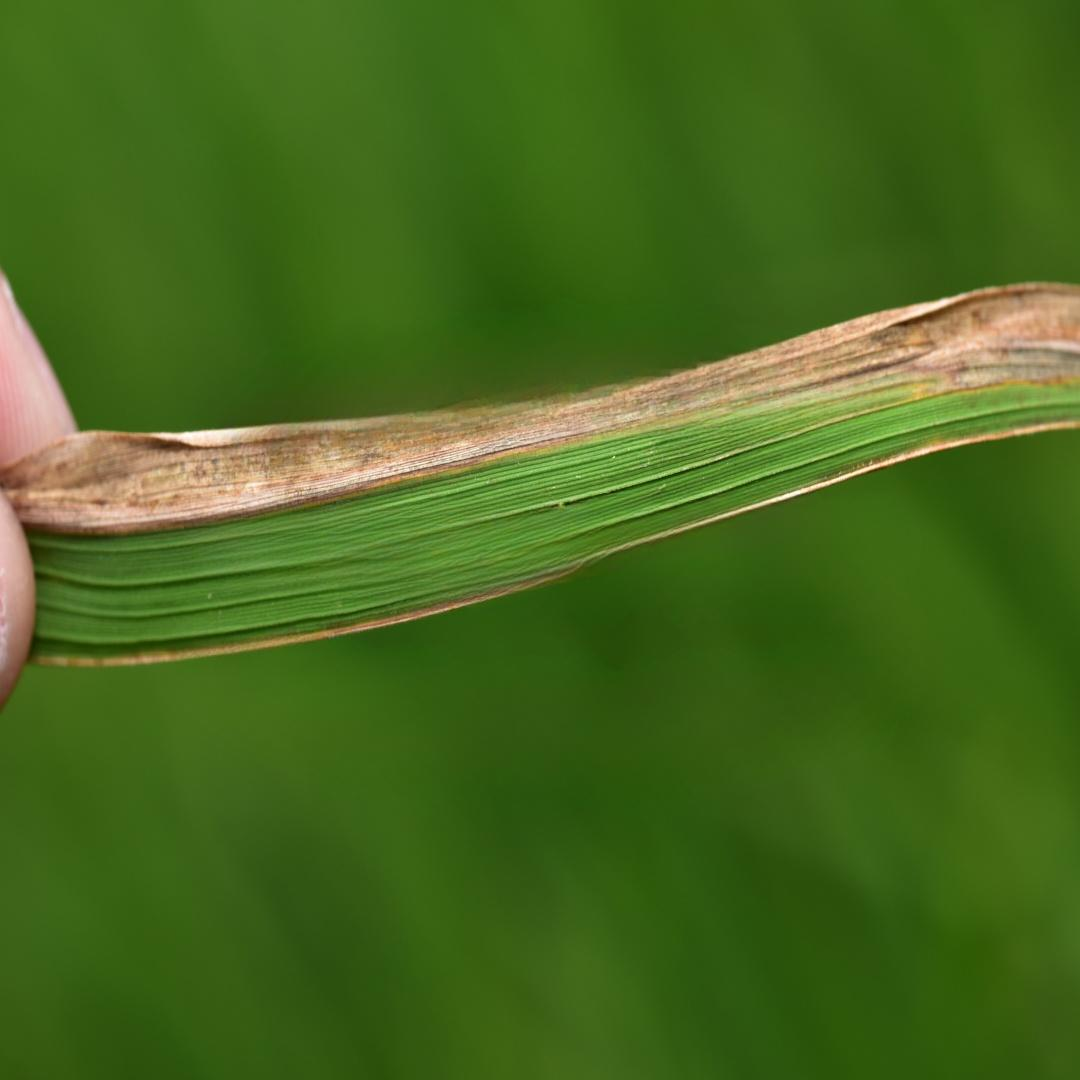BLB: (0, 283, 1079, 534)
